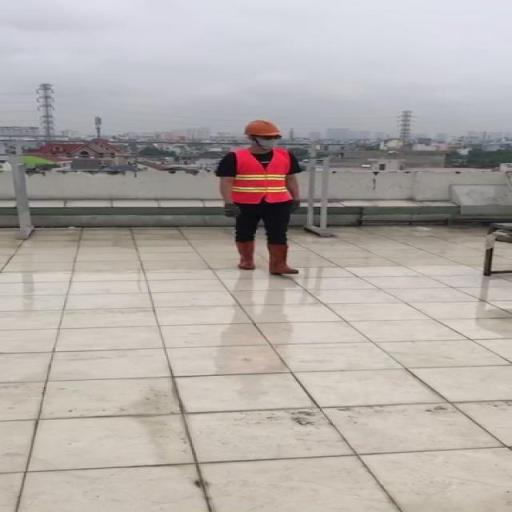Boots: (266, 242, 299, 274), (233, 239, 257, 269)
Helmet: (241, 120, 284, 136)
Person: (214, 118, 309, 279)
